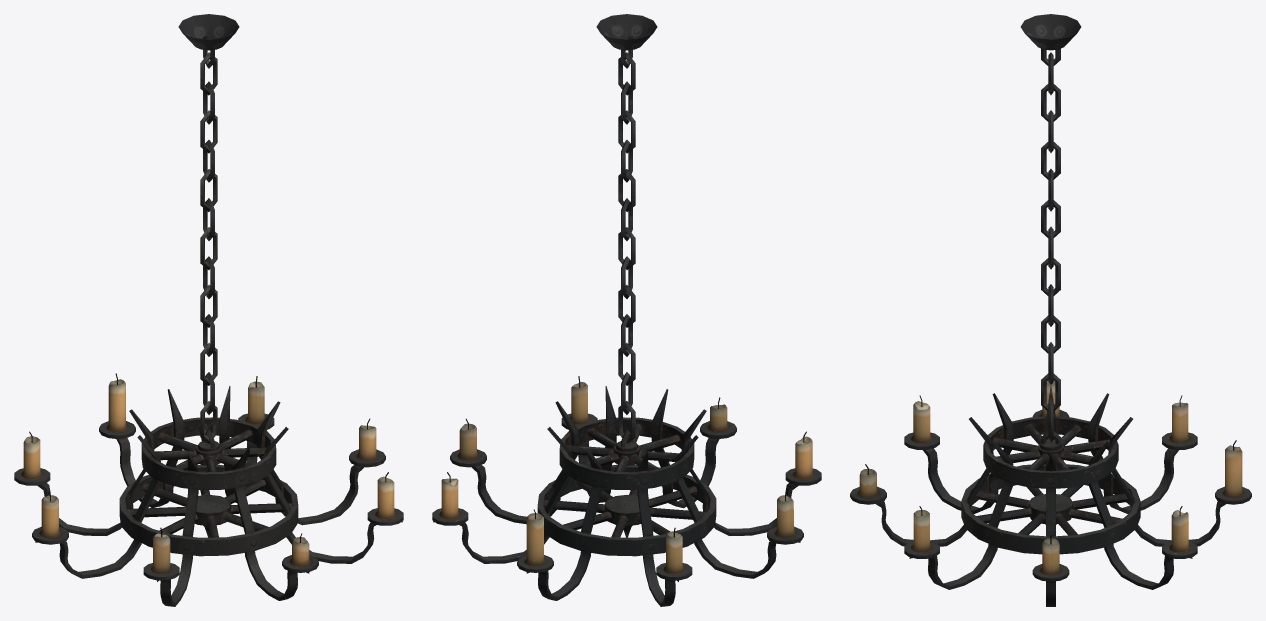
The model's file is lustre 1.fbx.
The picture shows the model from 3 angles, left to right: view 1: azimuth 30°, elevation 25°; view 2: azimuth 150°, elevation 25°; view 3: azimuth 270°, elevation 25°; orthographic projection.
Visible parts, largest first — view 1: lustre, Object014; view 2: lustre, Object014; view 3: lustre, Object014.
Boxes of the visible parts, <box> form: lustre: <box>14,36,403,606</box>; Object014: <box>178,14,239,50</box>; lustre: <box>432,36,821,606</box>; Object014: <box>596,14,657,50</box>; lustre: <box>850,38,1251,606</box>; Object014: <box>1020,14,1081,50</box>.
Bounding box in the file's own units: 1.9 × 2.72 × 1.9.
